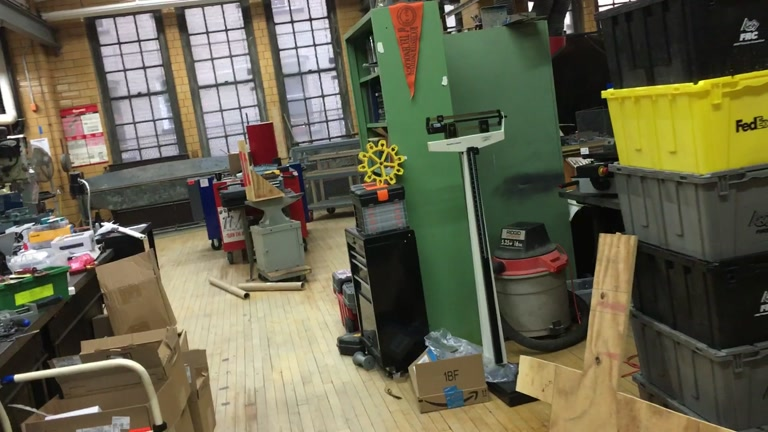gear: (357, 138, 407, 187)
